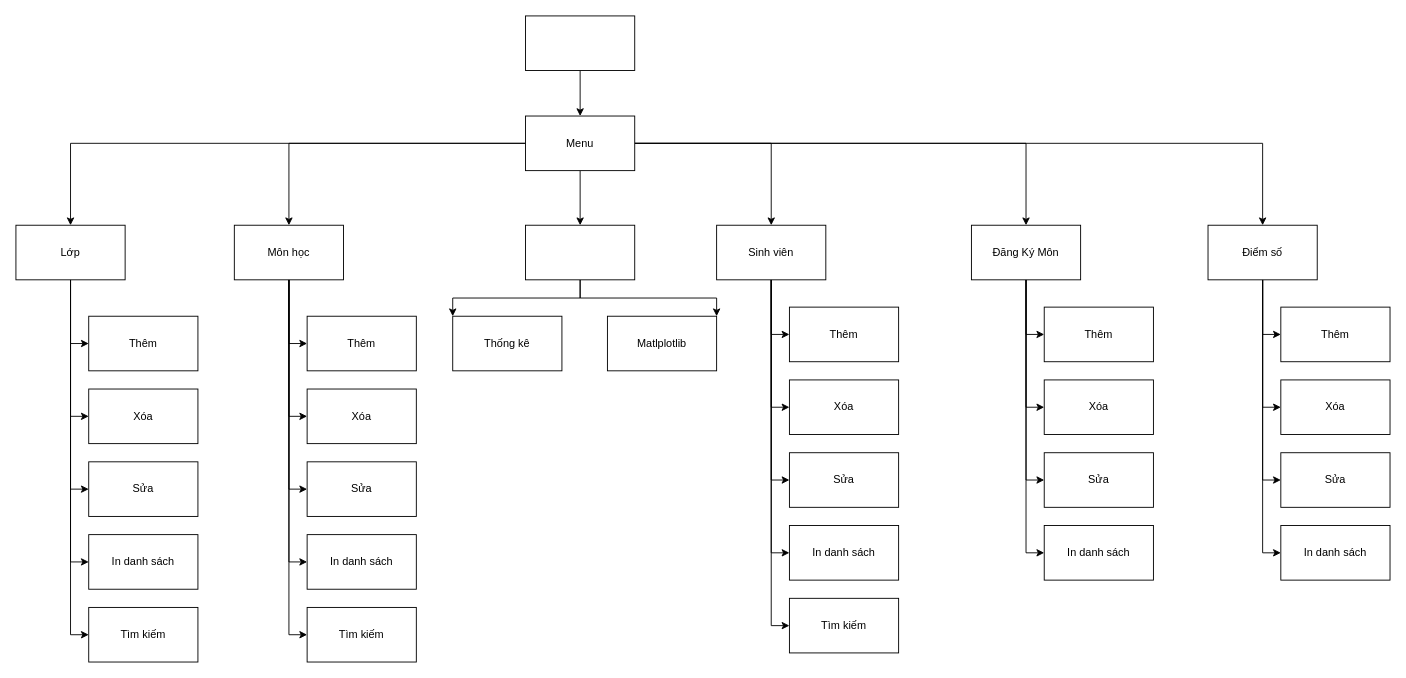
The diagram is 1406 pixels wide and 678 high, and some of its shapes have lost their labels. The centre of each missing label's shape, as x and y in pixels:
"Báo cáo" belongs at point (580, 252).
"Quản lý sinh viên" belongs at point (580, 43).
